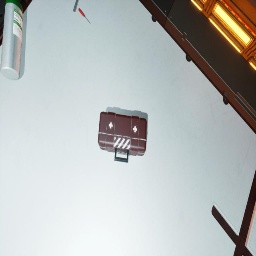0: (0, 0, 23, 80)
FirstAidBox ,: (98, 111, 147, 163)
